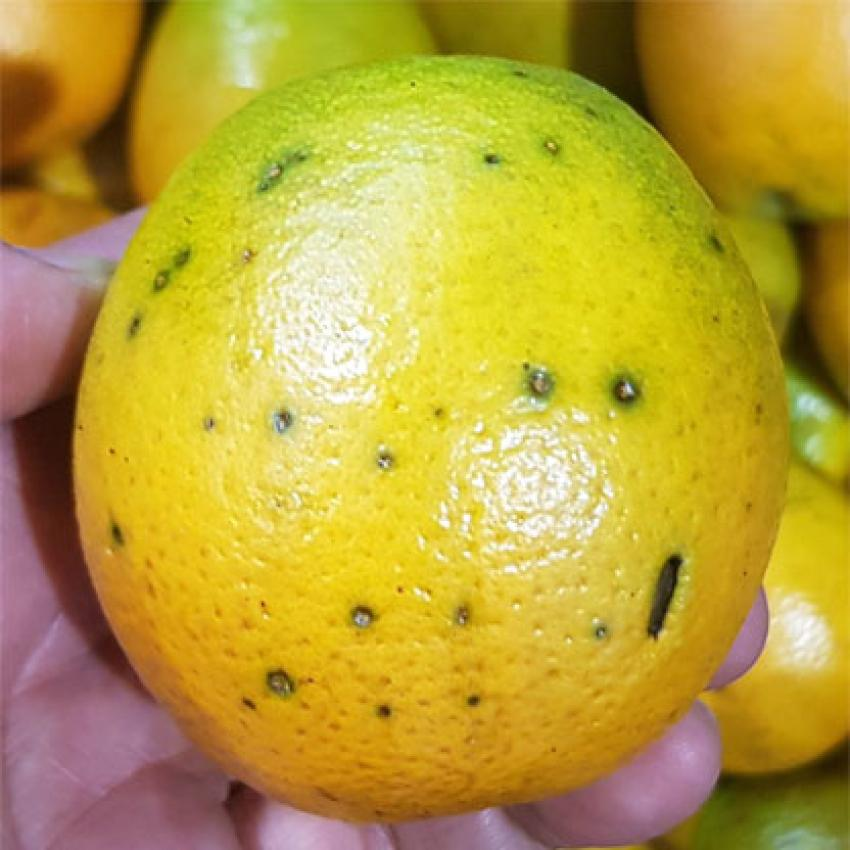Mal estado: (65, 49, 803, 827)
